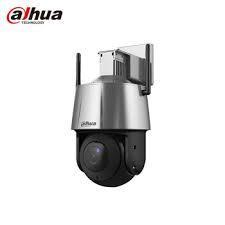maru: (62, 33, 169, 196)
